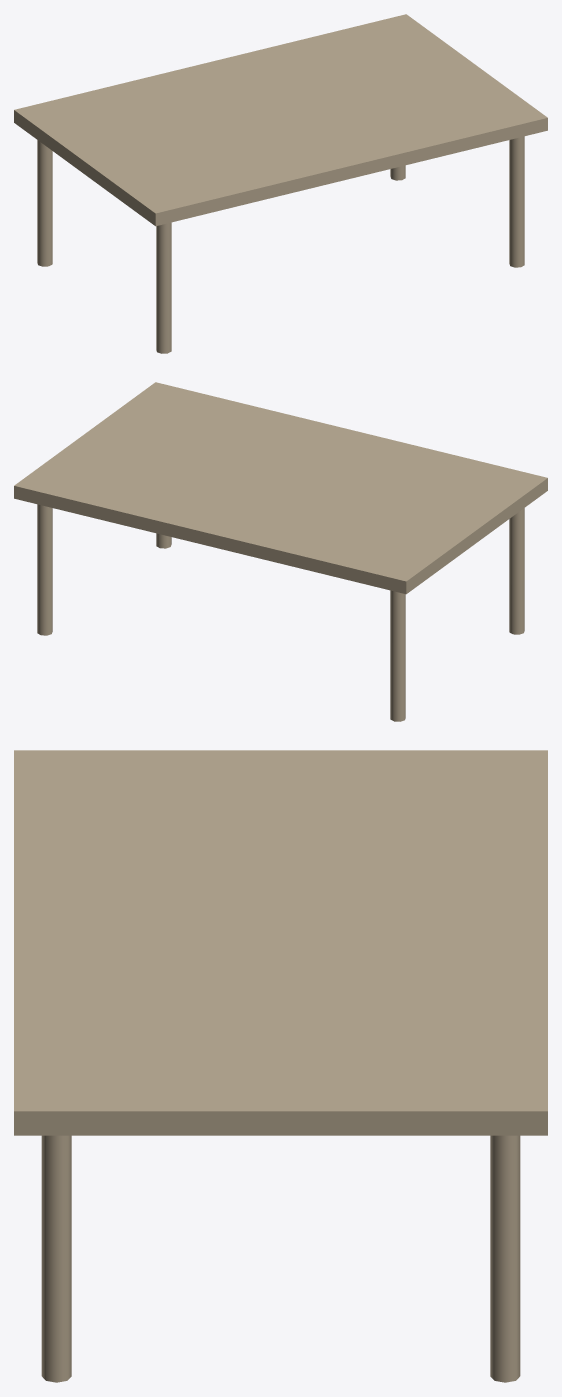
The model's file is waystationShelter.glb.
3 views of the same model, one above another, from view 1: azimuth 30°, elevation 25°; view 2: azimuth 150°, elevation 25°; view 3: azimuth 270°, elevation 25° (orthographic). The views are drawn at different scales.
Parts seen in each view (by area): view 1: roof, post-3.6-2.1, post--3.6-2.1, post--3.6--2.1; view 2: roof, post-3.6--2.1, post--3.6--2.1, post--3.6-2.1; view 3: roof, post-3.6--2.1, post-3.6-2.1.
Boxes of the visible parts, x1,y1,x2,y2 form: roof: (14,14,547,226); post-3.6-2.1: (509,136,524,267); post--3.6-2.1: (156,222,171,353); post--3.6--2.1: (37,140,52,266); roof: (14,382,547,594); post-3.6--2.1: (37,504,52,635); post--3.6--2.1: (390,590,405,721); post--3.6-2.1: (509,508,524,634); roof: (14,750,547,1135); post-3.6--2.1: (490,1135,520,1382); post-3.6-2.1: (41,1135,71,1382).
Bounding box in the file's own units: 8 × 2.92 × 5.
